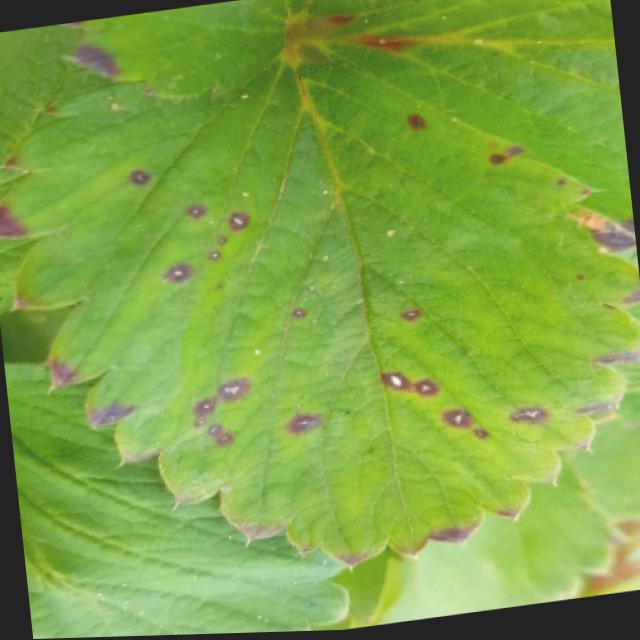Leaf Spot: (0, 40, 640, 571), (312, 0, 635, 241)
